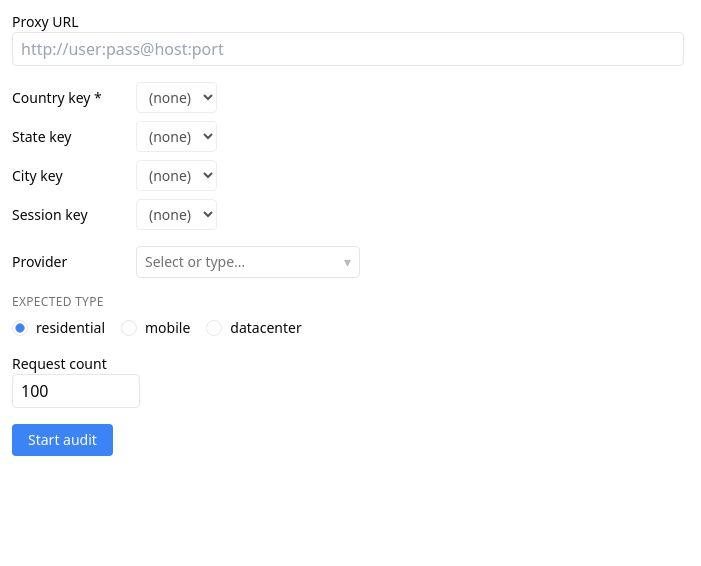
Scenario: AuditSetupForm — session key › blocks submit when picked Session key has no following value
Type "http://user-country-RO-session:p@h:1" into the field labelled "Proxy URL" at (348, 49), box [12,32,684,66]
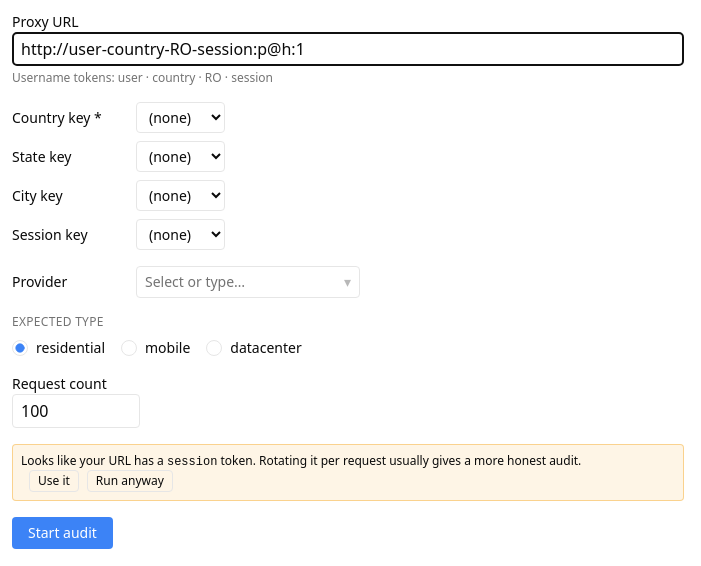
Select "country" in the dropdown labelled "Country key *" at (180, 118), box [136,102,225,133]
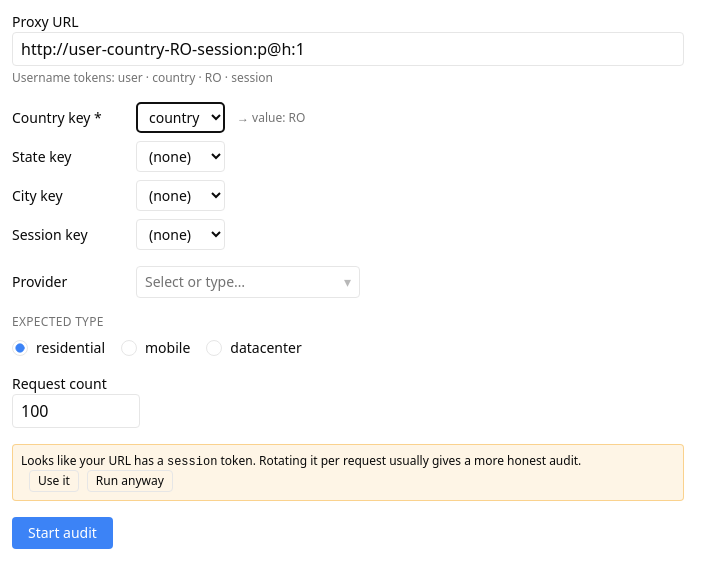
Select "session" in the dropdown labelled "Session key" at (180, 234), box [136,219,225,250]
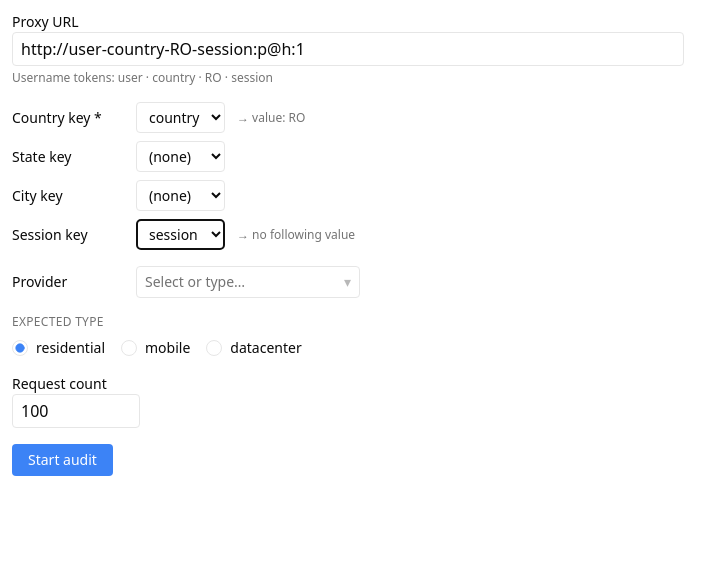
Click the button "Start audit" at (62, 460), box [12,444,113,476]
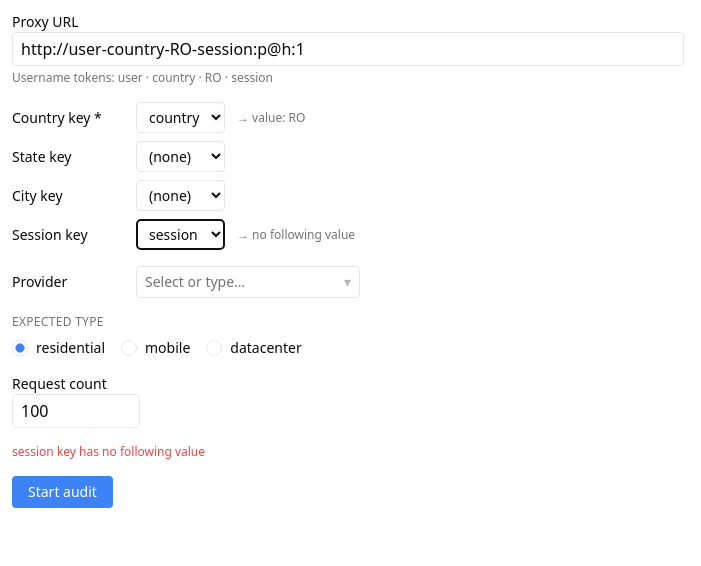
Expected: the text "session key has no following value" is shown, [12,443,205,460]
